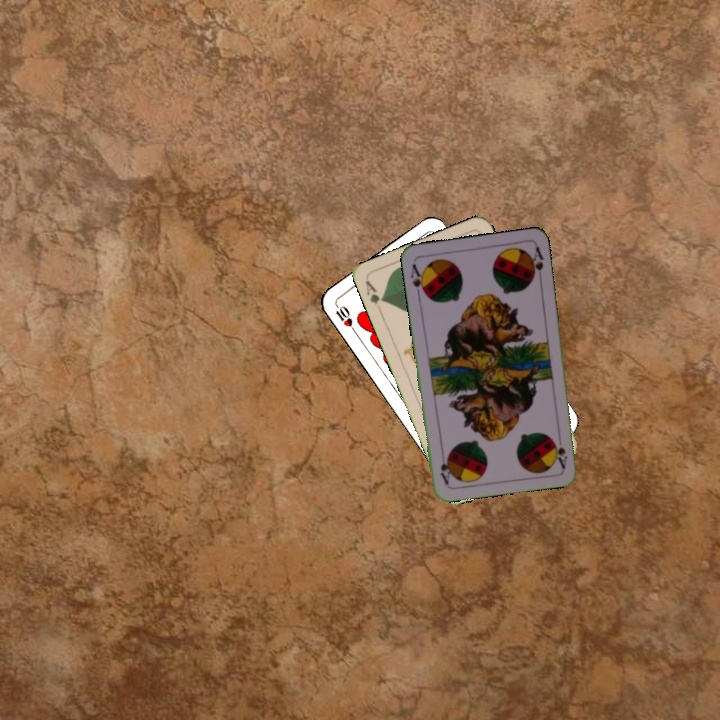GA: (362, 276, 388, 315)
H10: (330, 299, 358, 335)
SA: (406, 260, 429, 299), (550, 430, 570, 470)
